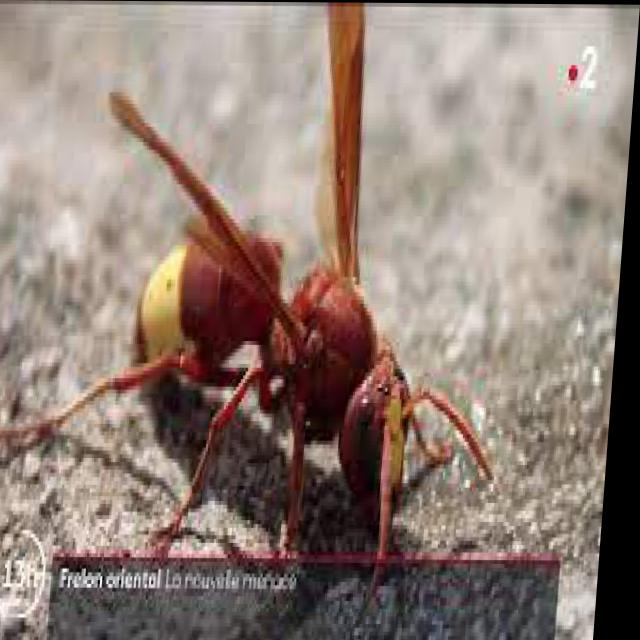Vespa Orientalis: (0, 0, 548, 615)
